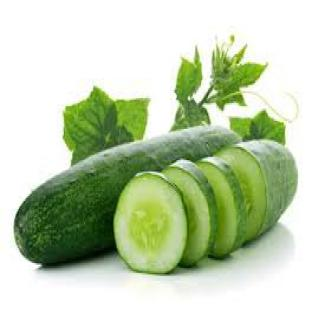Cucumber: (15, 126, 239, 264), (218, 141, 297, 241), (114, 172, 187, 274), (164, 161, 217, 266), (198, 157, 246, 258)
